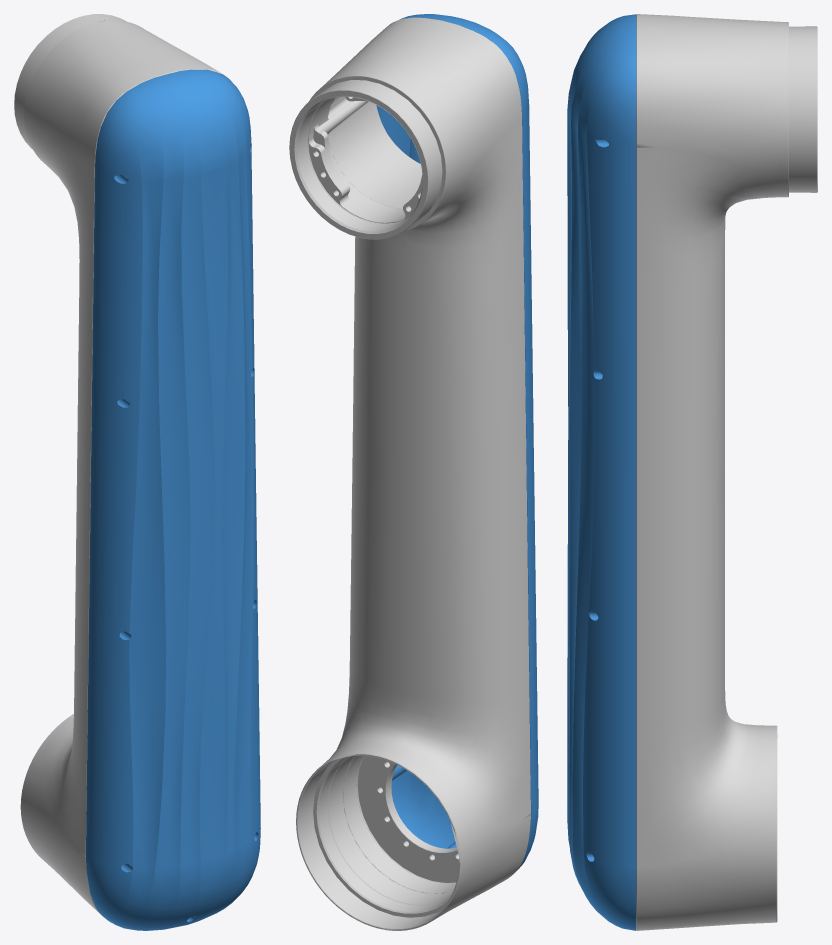
3 views of the same model, side by side, from view 1: azimuth 30°, elevation 25°; view 2: azimuth 150°, elevation 25°; view 3: azimuth 270°, elevation 25° (orthographic). The views are drawn at different scales.
Bounding box in the file's own units: 103 × 497 × 127.
